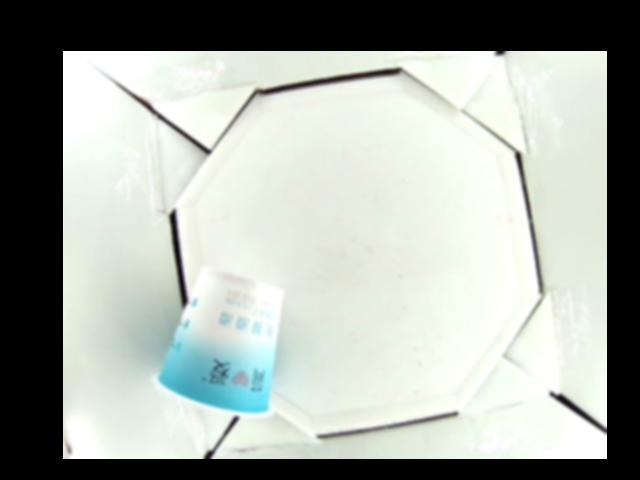Cup: (153, 267, 285, 420)
